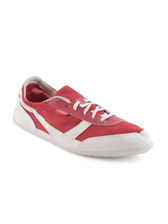shoes: (9, 74, 157, 160)
